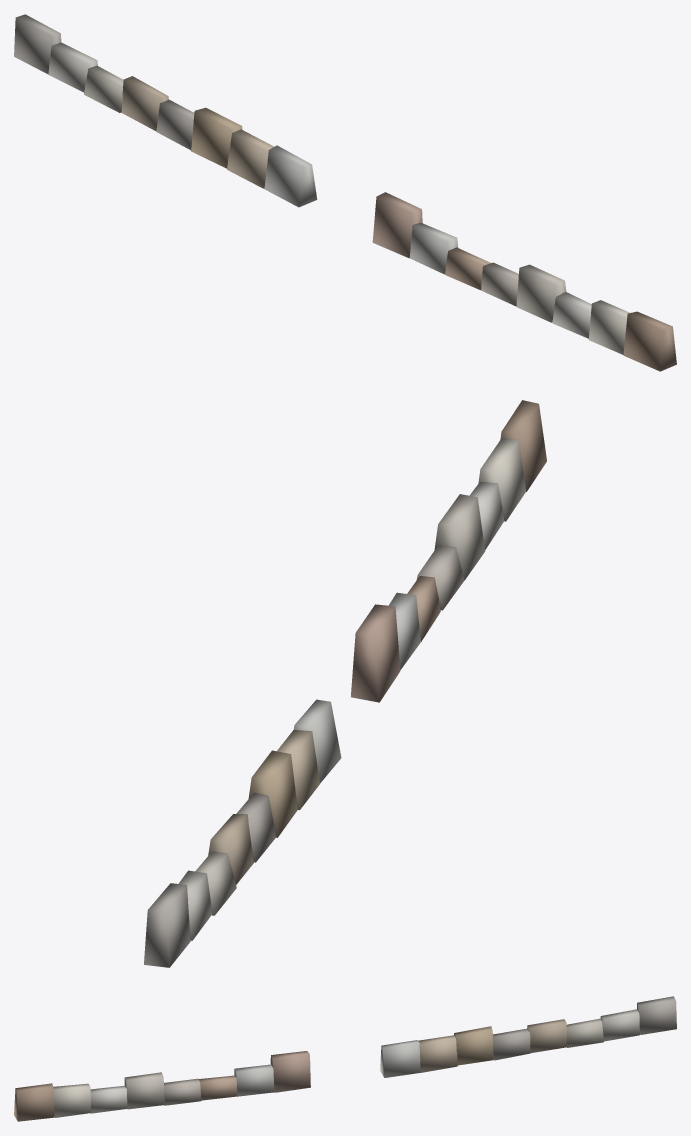
The model's file is farm_11_3_far.glb.
3 views of the same model, one above another, from view 1: azimuth 30°, elevation 25°; view 2: azimuth 150°, elevation 25°; view 3: azimuth 270°, elevation 25° (orthographic). The views are drawn at different scales.
Parts seen in each view (by area): view 1: geometry_0; view 2: geometry_0; view 3: geometry_0.
Boxes of the visible parts, bbox=[...] form: geometry_0: bbox=[14, 14, 676, 371]; geometry_0: bbox=[144, 400, 546, 967]; geometry_0: bbox=[14, 996, 676, 1121].
Size of the model in its own units: 7.3 by 2.28 by 27.03.
